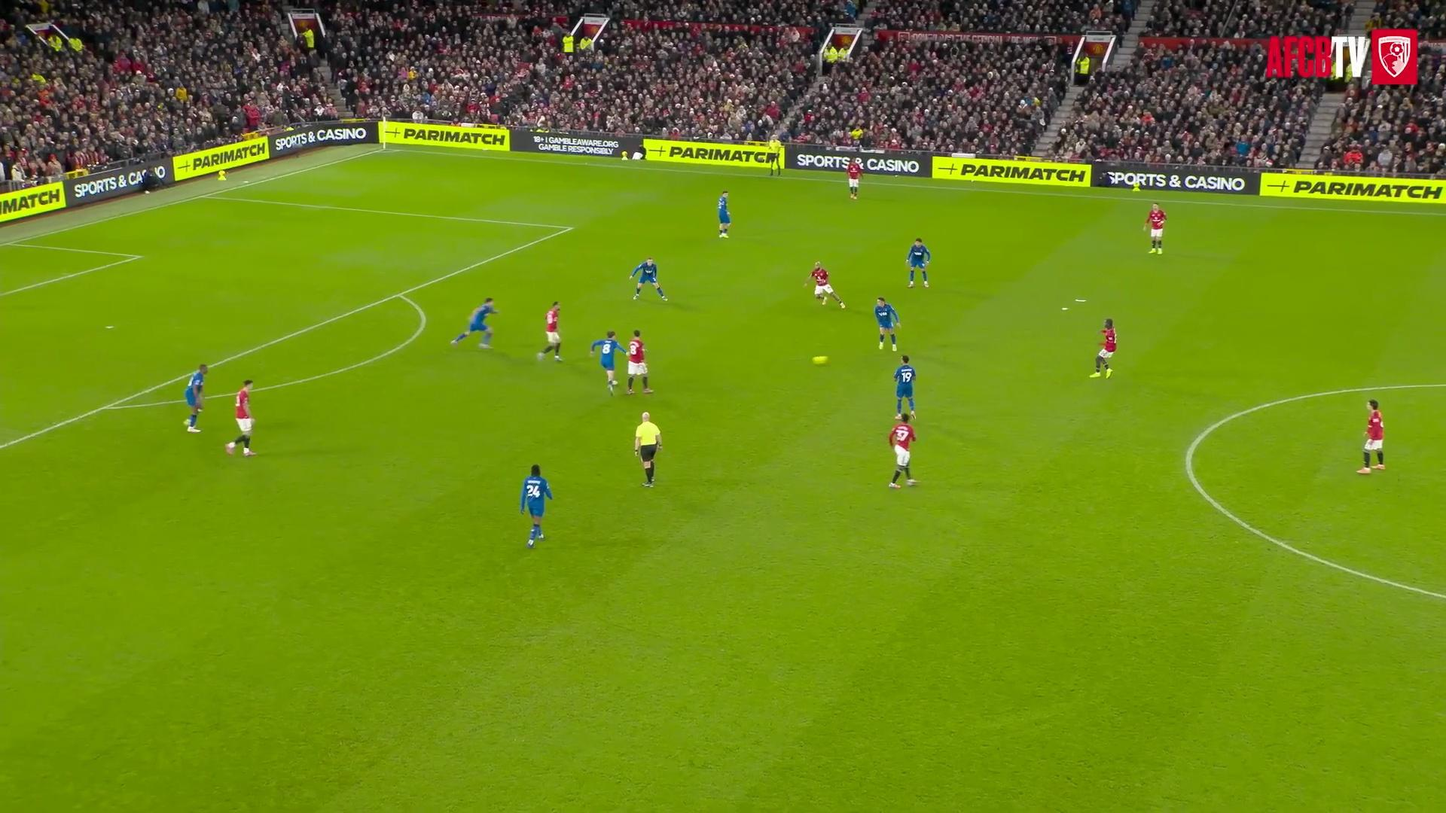football: (811, 350, 834, 370)
player: (520, 464, 552, 547), (451, 297, 497, 349), (225, 380, 255, 456), (888, 416, 917, 487), (589, 331, 621, 394), (1358, 399, 1385, 473), (626, 330, 652, 393), (630, 257, 667, 301), (537, 301, 563, 362), (810, 262, 844, 308), (1090, 318, 1116, 378), (185, 364, 207, 432), (874, 297, 901, 350), (894, 355, 916, 419), (907, 238, 931, 288), (1145, 203, 1166, 254), (846, 158, 862, 199), (717, 191, 731, 237)
referee: (634, 413, 660, 487), (767, 135, 782, 175)
